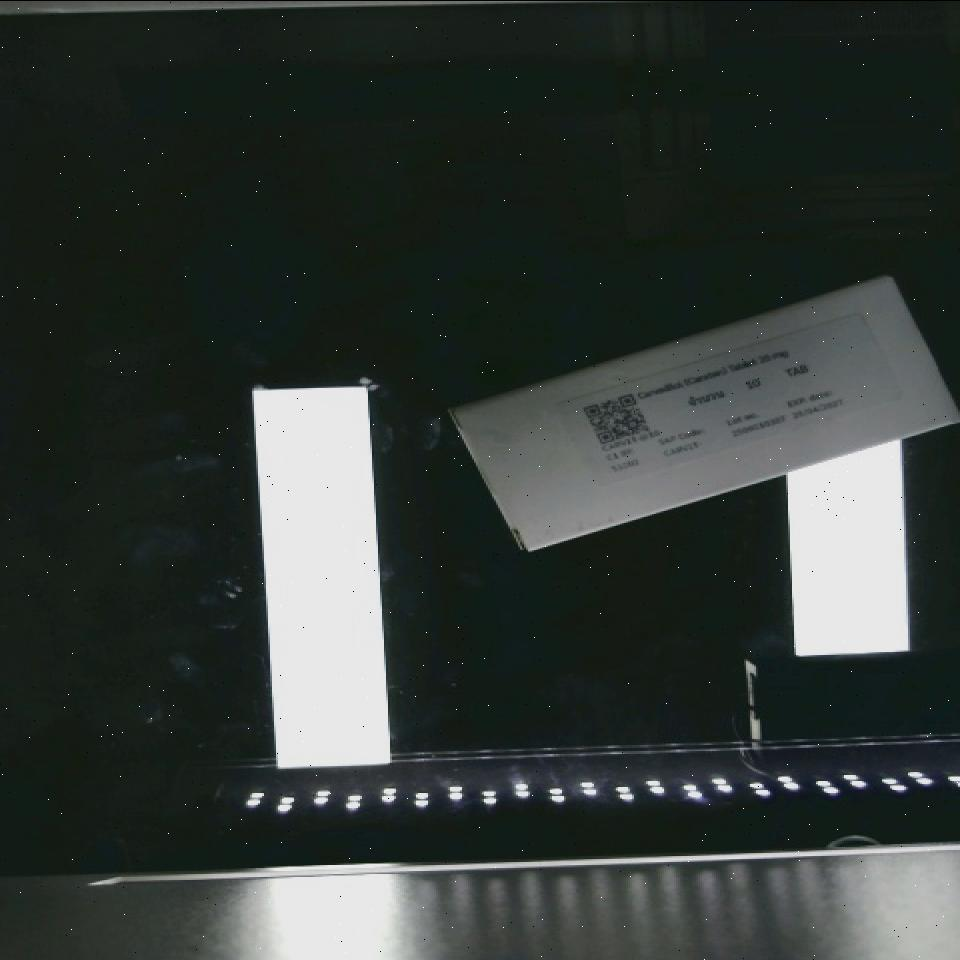medicine_box: (451, 264, 958, 563)
qr_code: (568, 378, 660, 462)
